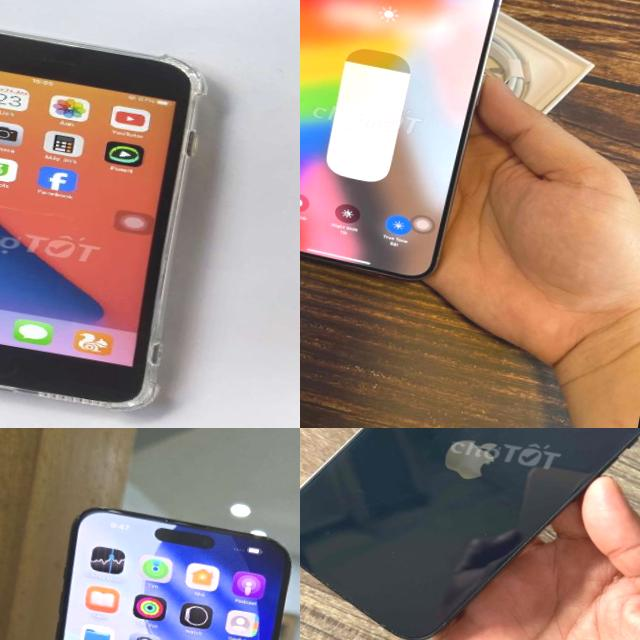gen_12_13: (300, 428, 640, 640), (2, 502, 300, 640)
gen_15: (300, 0, 506, 289)
gen_7_8: (0, 0, 235, 423)
